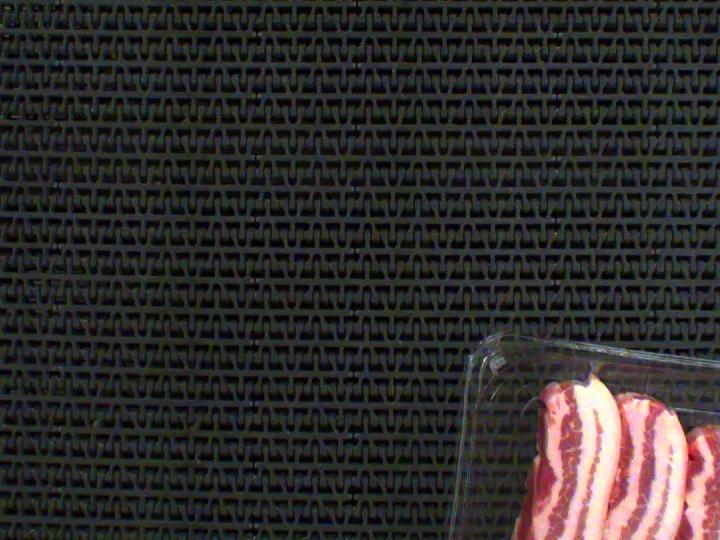packaging-error: (581, 353, 609, 386)
